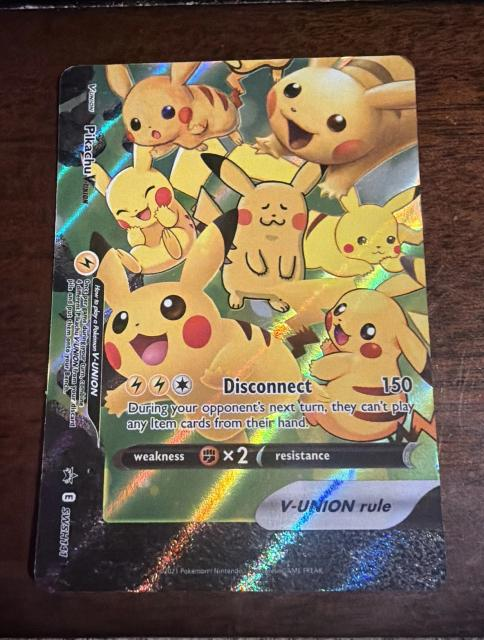Card: (24, 49, 454, 599)
Name: (73, 123, 108, 209)
